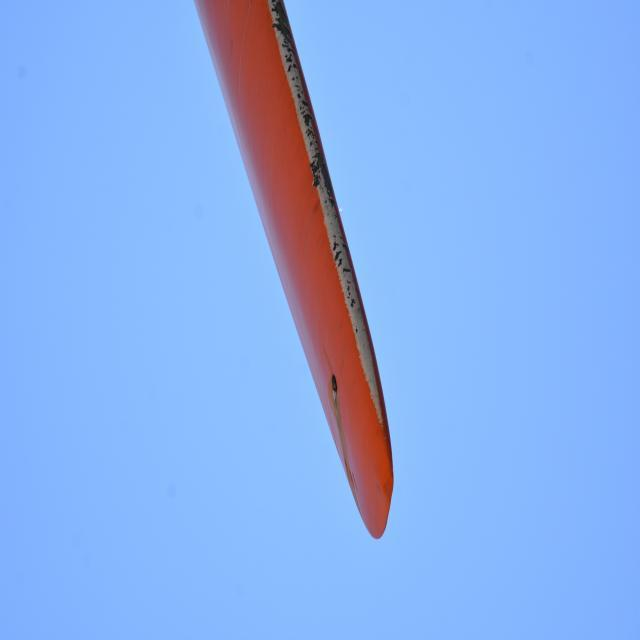Burn Mark: (328, 370, 340, 409)
EROSION: (315, 209, 377, 346), (293, 77, 341, 200), (261, 5, 308, 74)
